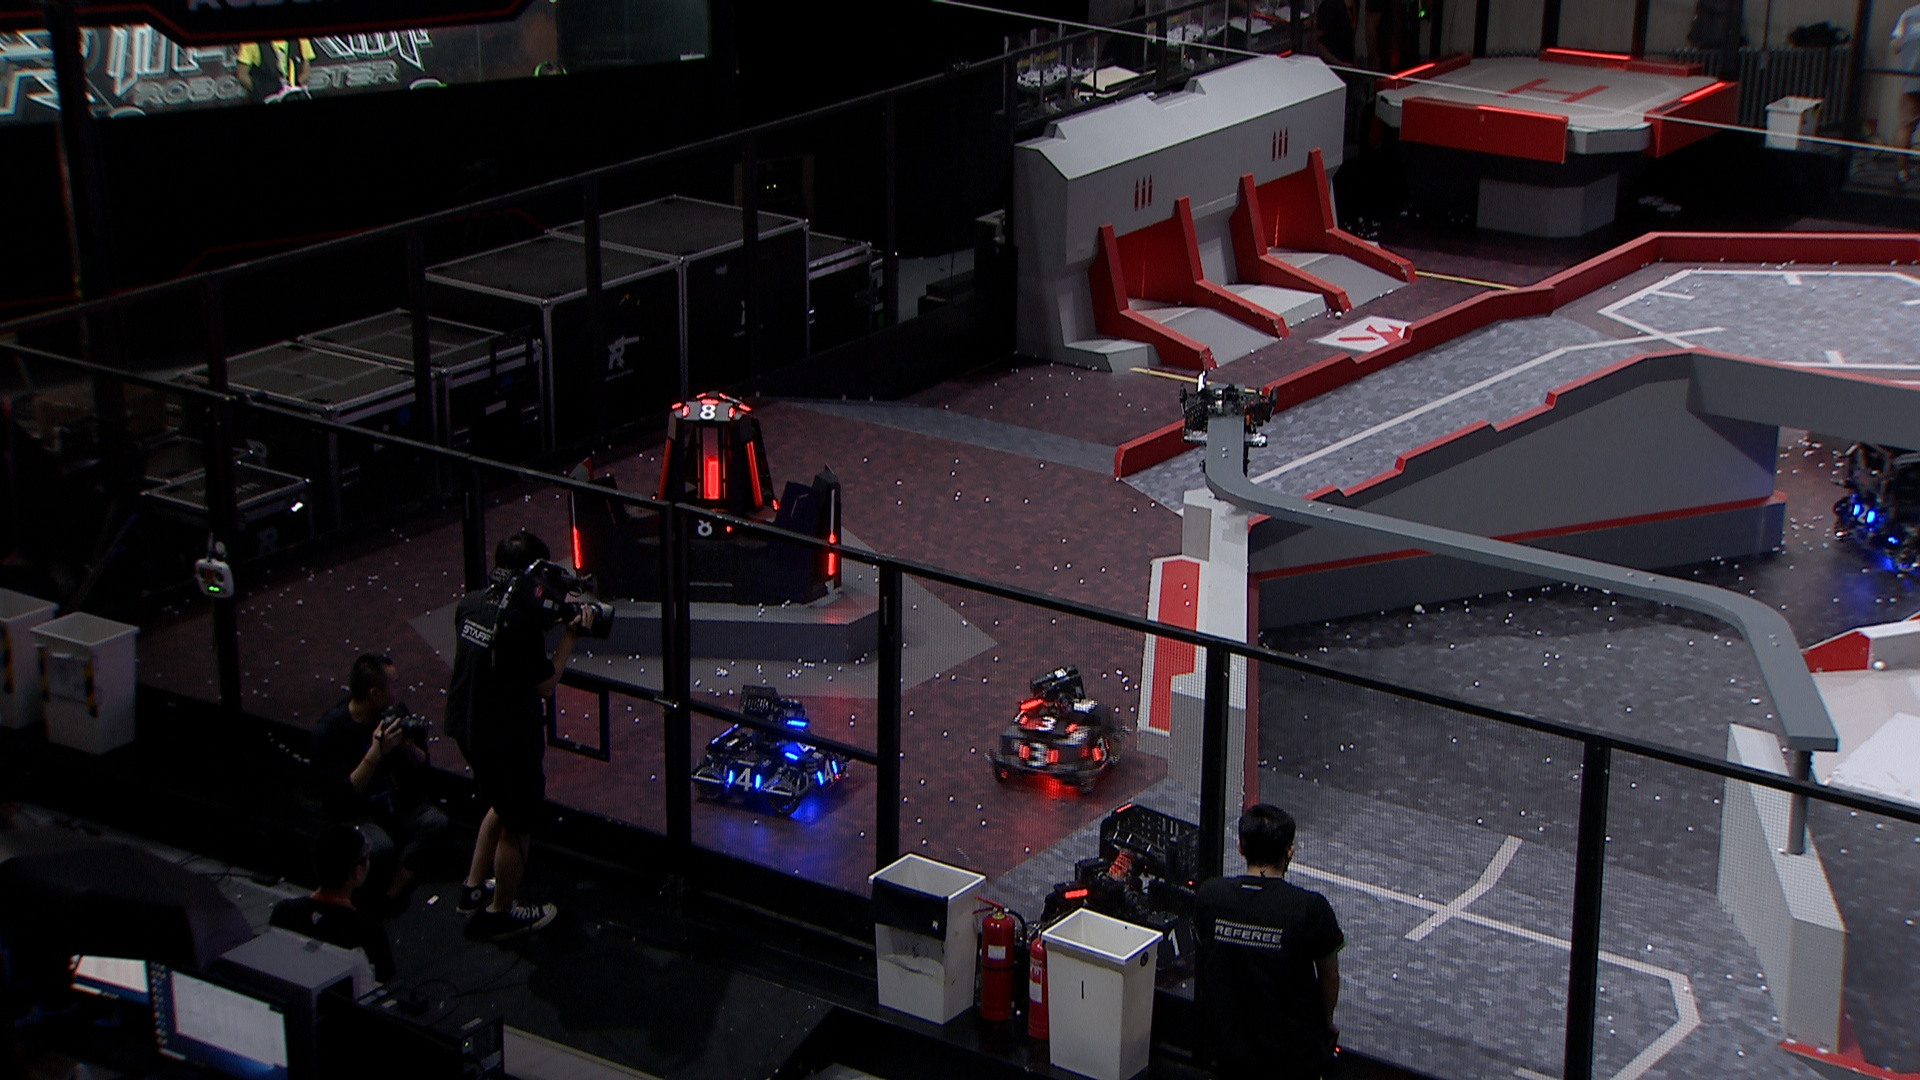armor: (1149, 924, 1196, 960), (745, 436, 764, 504), (1015, 713, 1073, 733), (1021, 740, 1058, 769), (680, 400, 733, 419), (684, 512, 728, 534), (657, 433, 670, 501), (724, 767, 760, 793), (787, 731, 818, 757), (703, 456, 719, 501), (823, 527, 837, 576), (1847, 498, 1874, 522), (570, 522, 583, 566), (818, 760, 840, 782), (1093, 735, 1112, 761)
base: (558, 390, 847, 613)
car: (1035, 800, 1228, 986), (688, 680, 852, 823), (978, 666, 1125, 798), (1826, 411, 1920, 578)
watcher: (1178, 368, 1276, 491)
